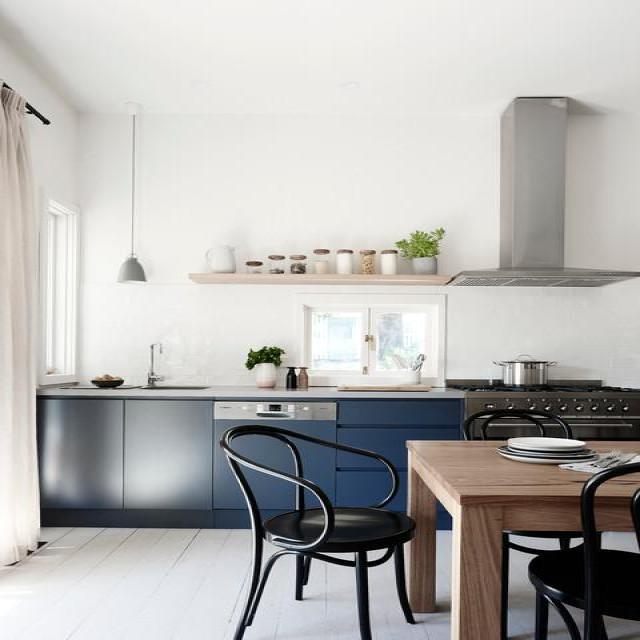dishwasher: (37, 399, 212, 527)
